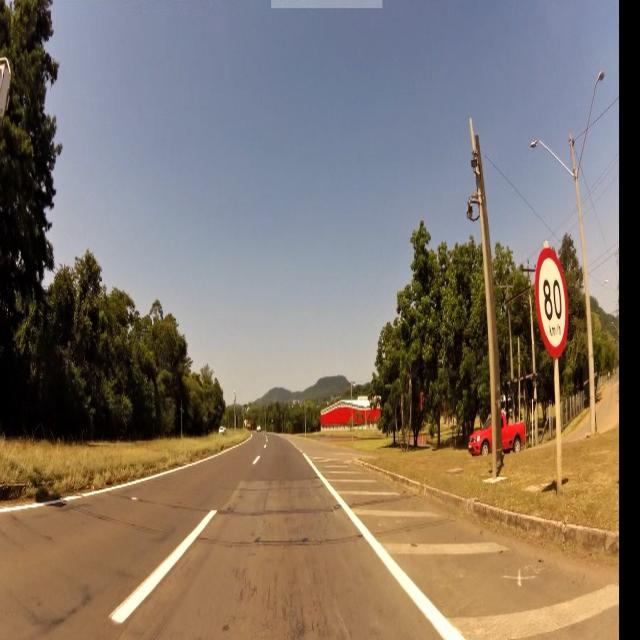R-19: (538, 248, 568, 356)
